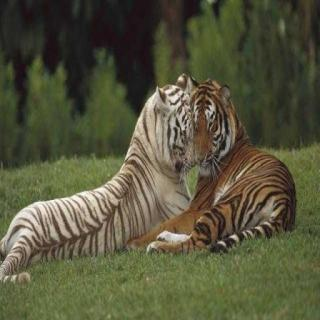Tiger: (0, 68, 196, 285), (178, 65, 300, 258)
